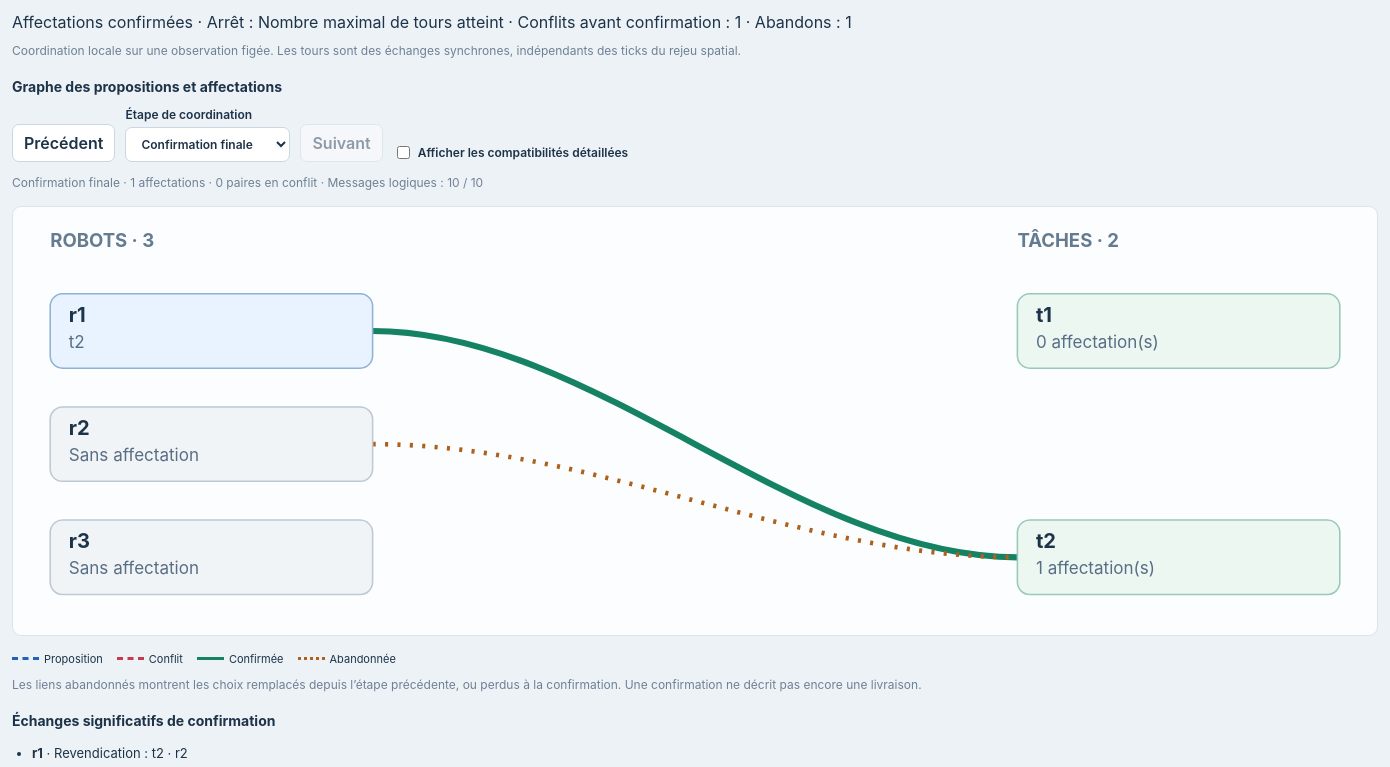
Test: coordination graph › navigates real rounds using post-update choices while messages keep their pre-update values
Select "Tour 1 · choix locaux" in the dropdown with test id "coordination-step": x=208, y=144 [126,127,290,162]
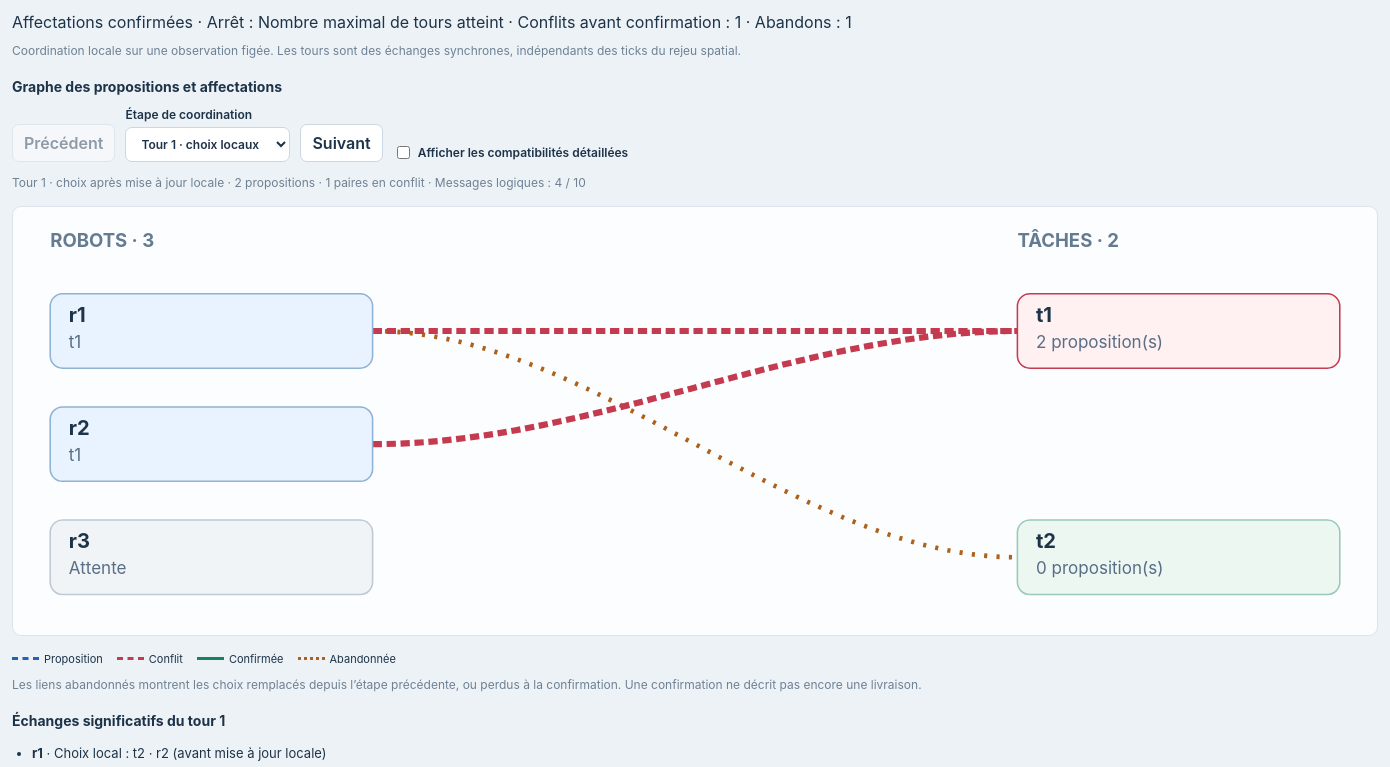
Expected: the text with test id "coordination-stage" shows "Tour 1", [12,175,586,190]
Expected: the text with test id "coordination-stage" shows "Messages logiques : 4 / 10", [12,175,586,190]
Expected: the list with test id "coordination-exchanges" shows "avant mise à jour locale", [169,745,326,761]
Click the button with aria-label "Tour suivant": x=342, y=143 [300,124,383,162]
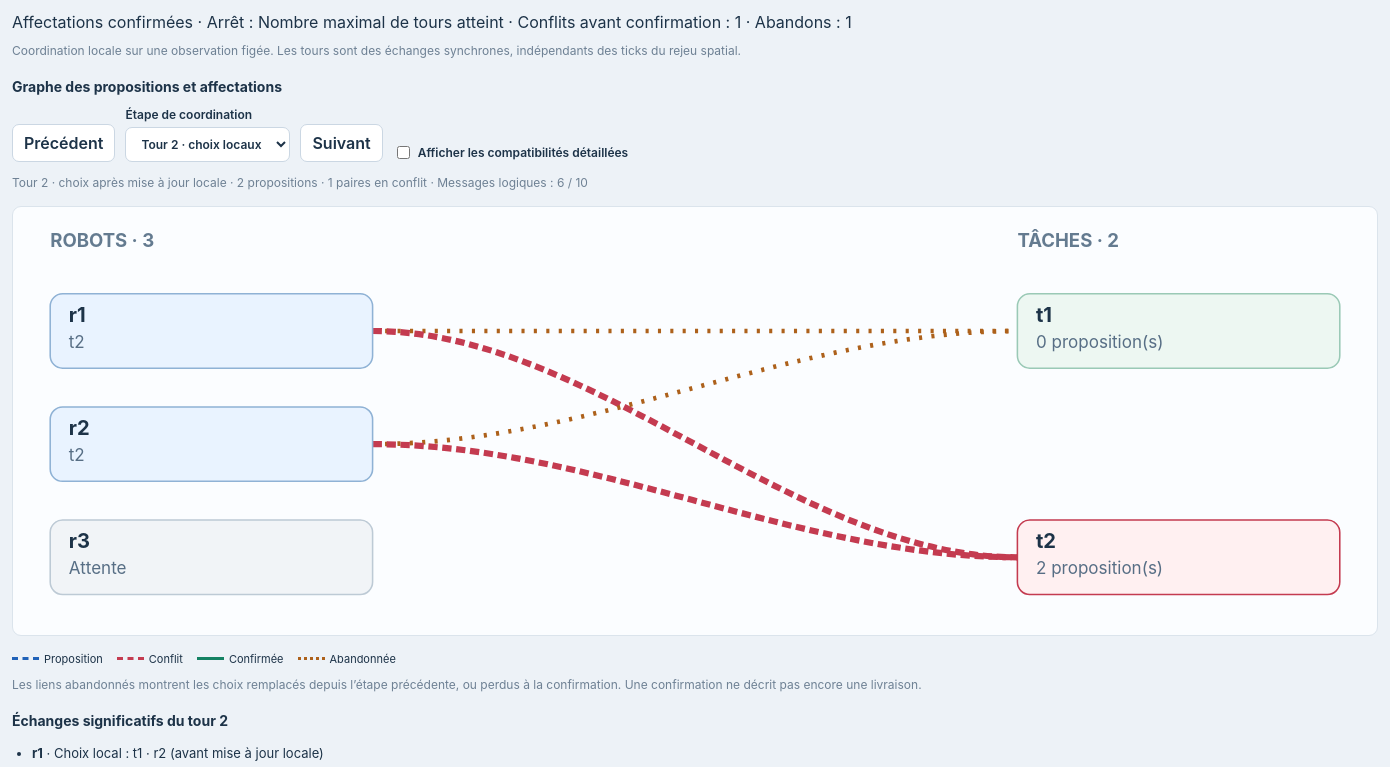
Expected: the text with test id "coordination-stage" shows "Messages logiques : 6 / 10", [12,175,588,190]
Click the button with aria-label "Tour suivant": x=342, y=143 [300,124,383,162]
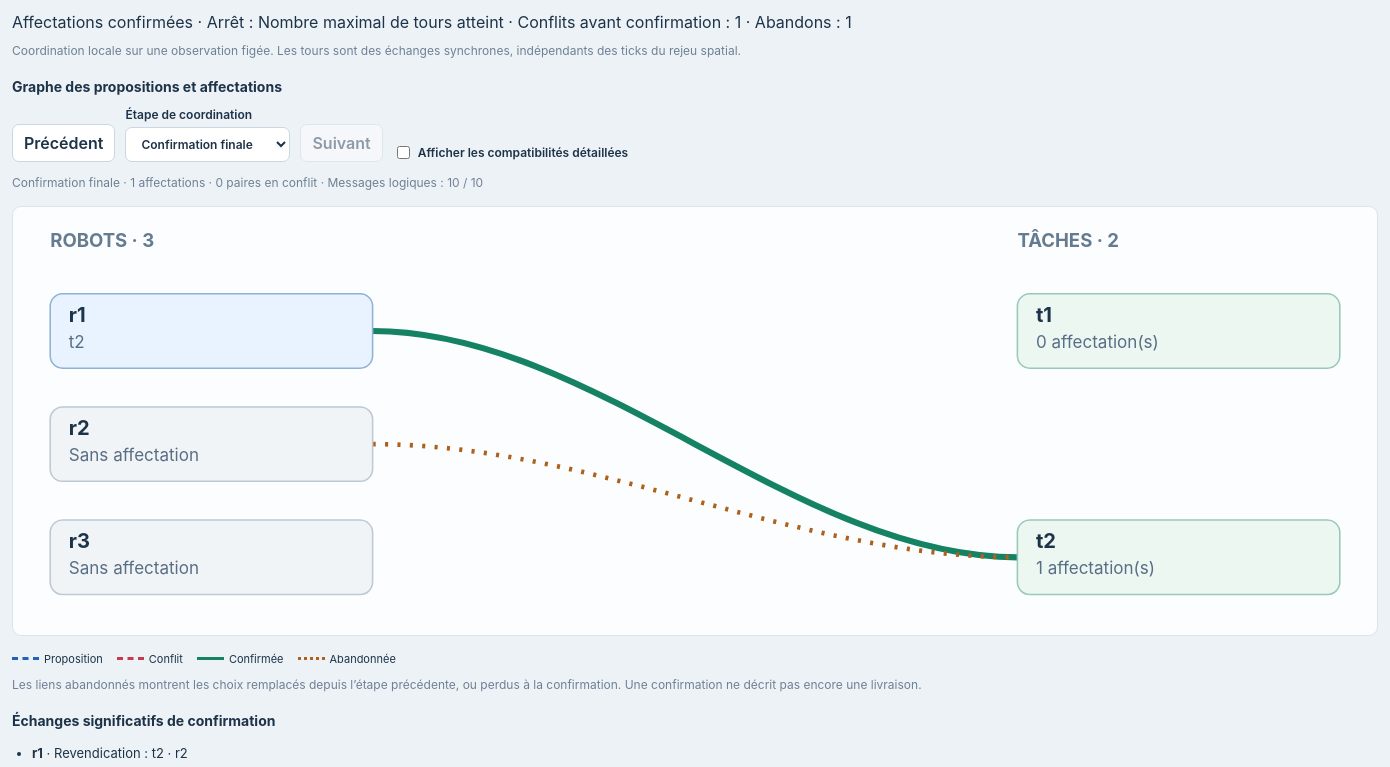
Expected: the text with test id "coordination-stage" shows "Messages logiques : 10 / 10", [12,175,483,190]
